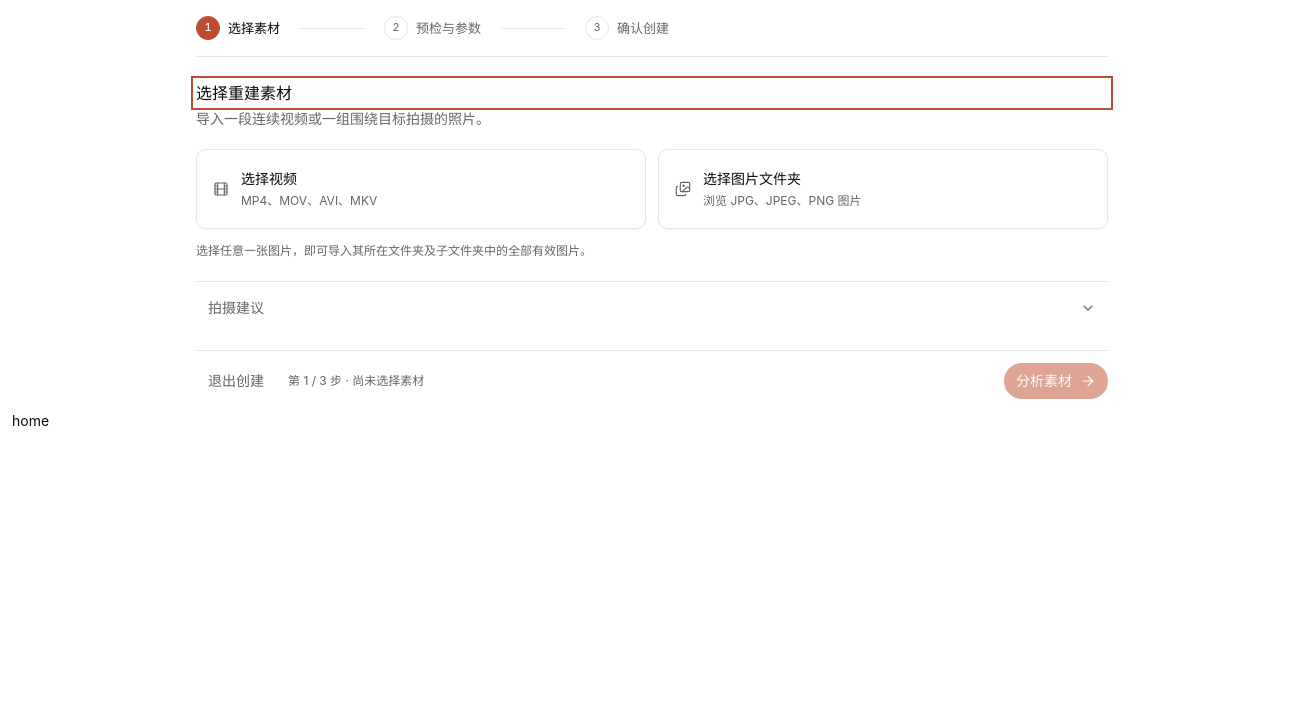
Test: NewProjectPage › keeps start failure visible after navigating to the created project
Click the button "选择视频 MP4、MOV、AVI、MKV" at (269, 178), box [196,149,646,229]
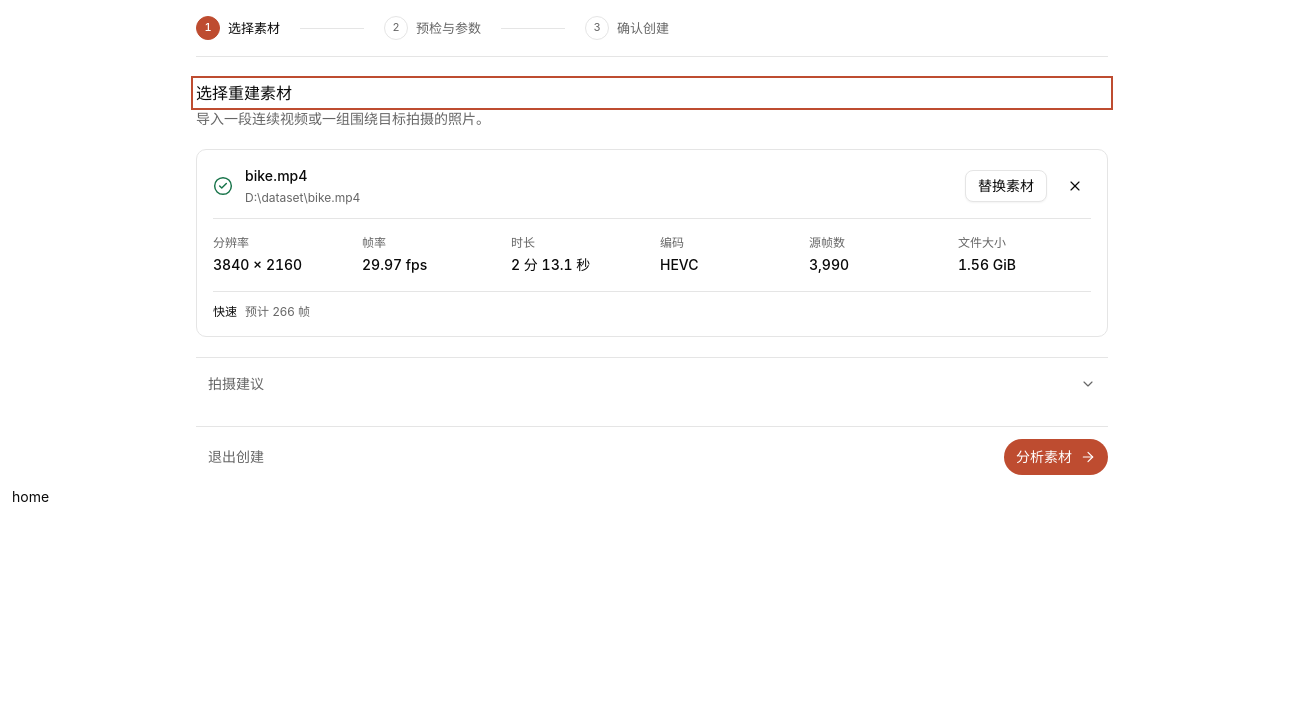
Result: the text "3840 × 2160" is shown at [213,256,302,273]
Click the button named "下一步" at (1056, 457), box [1004,439,1108,475]
(page scrolled)
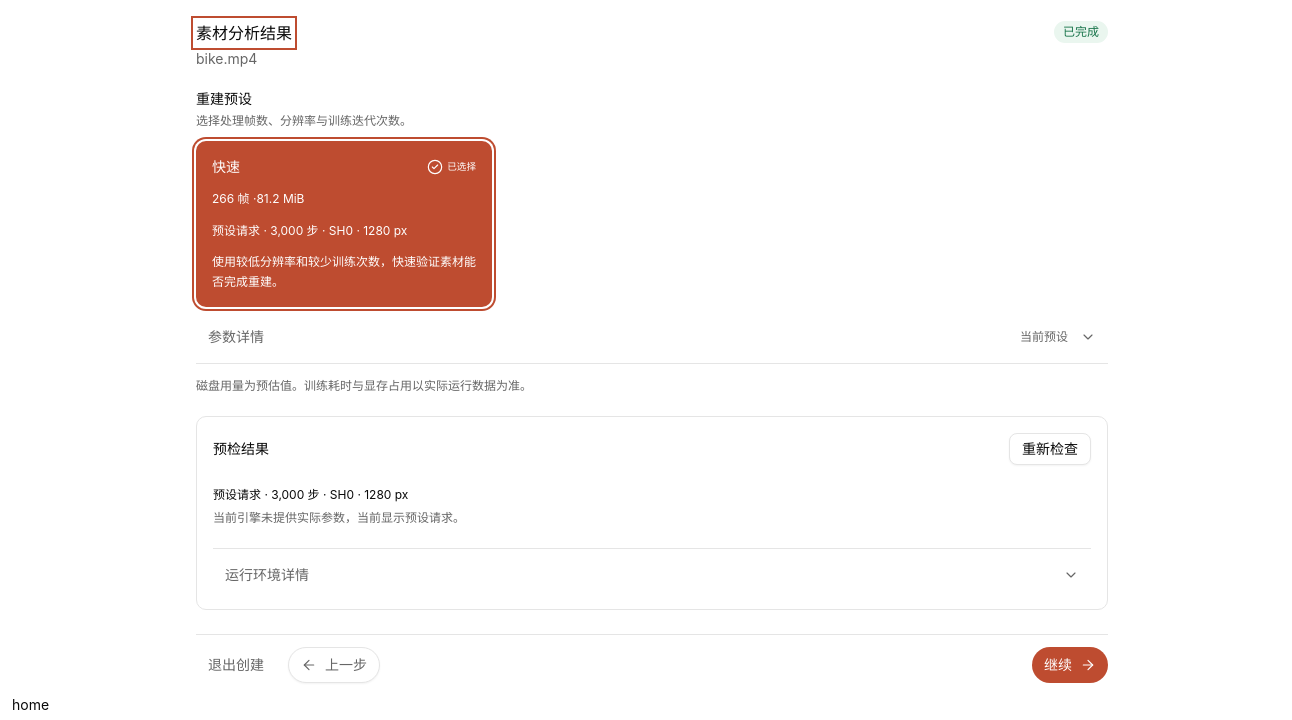
Click the button named "下一步" at (1070, 664), box [1032,646,1108,682]
(page scrolled)
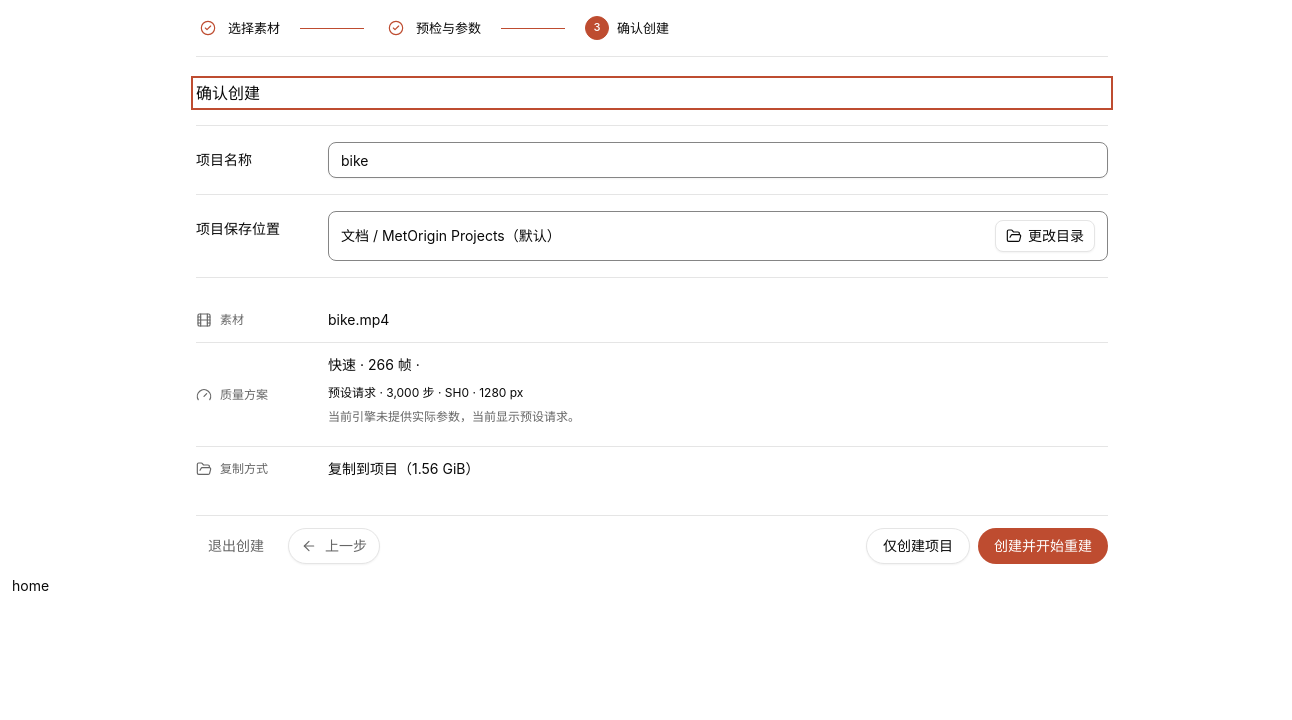
Click the button "创建并开始重建" at (1043, 546), box [978,528,1108,564]
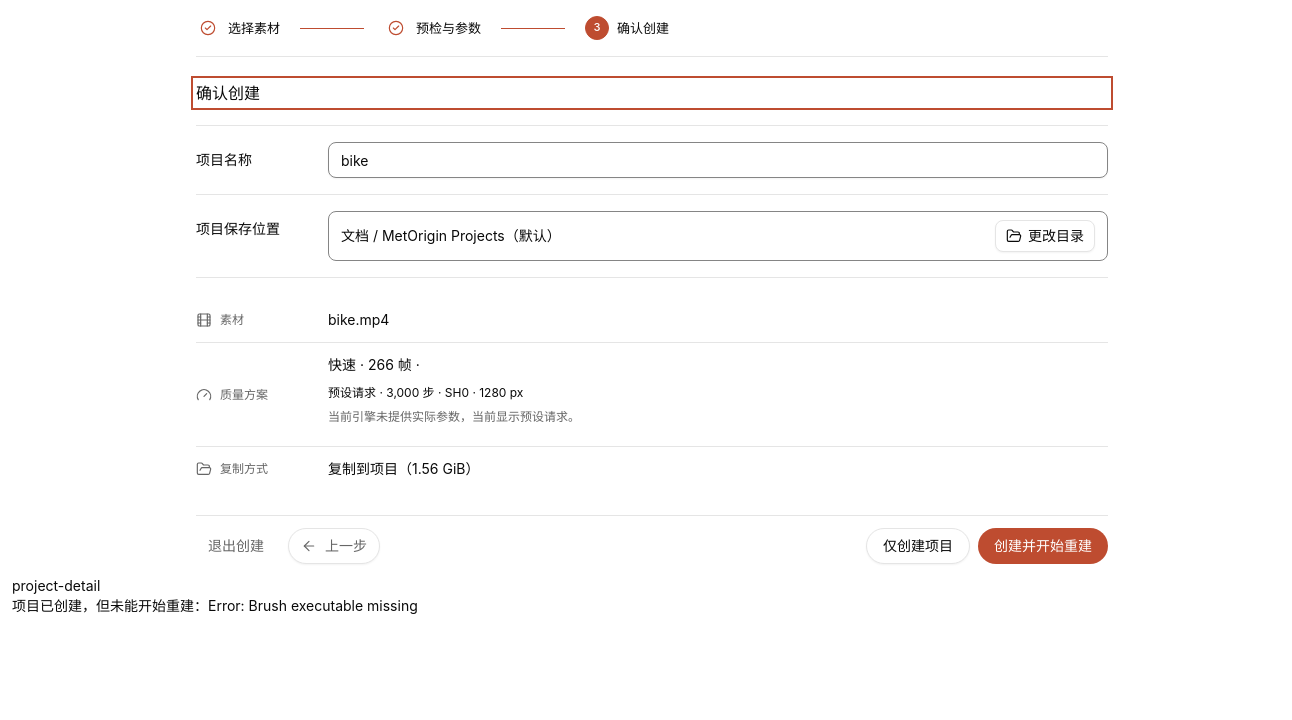
Result: the text with test id "page" reads "project-detail" at [12,577,100,594]
Result: the message shows "项目已创建，但未能开始重建" at [12,597,418,614]
Result: the message shows "Brush executable missing" at [12,597,418,614]
